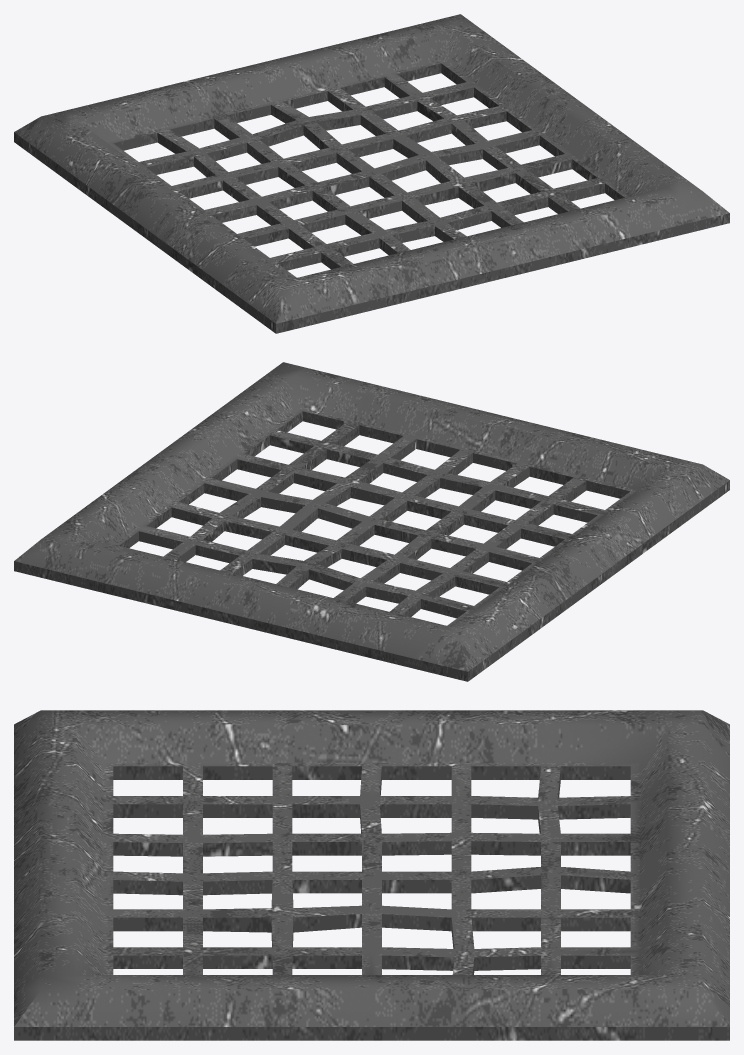
Rendered from sqare_sewercover_1.glb.
The picture shows the model from 3 angles, top to bottom: view 1: azimuth 30°, elevation 25°; view 2: azimuth 150°, elevation 25°; view 3: azimuth 270°, elevation 25°; orthographic projection. The views are drawn at different scales.
Visible parts, largest first — view 1: GrilleSmall; view 2: GrilleSmall; view 3: GrilleSmall.
Part boxes in pixels (x1=…): GrilleSmall: x1=14, y1=14, x2=729, y2=333; GrilleSmall: x1=14, y1=362, x2=729, y2=681; GrilleSmall: x1=14, y1=710, x2=729, y2=1040.
Size of the model in its own units: 2 by 0.1257 by 2.
Materials: 1 (1 with a texture image).
